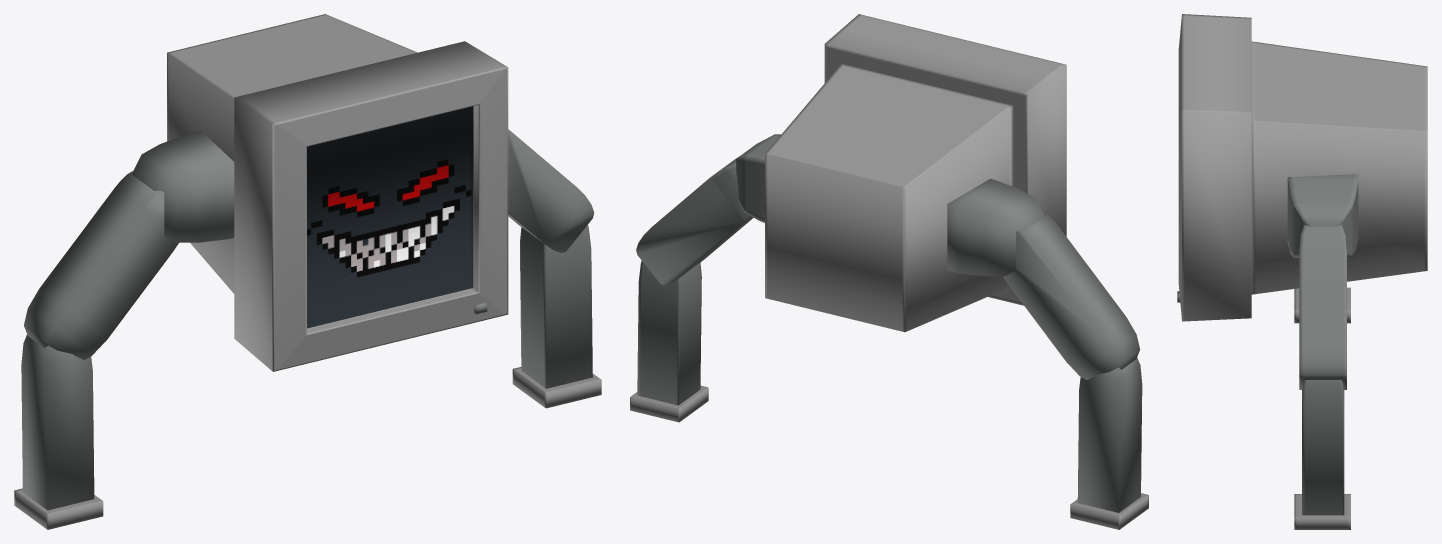
The model's file is enemy.fbx.
3 views of the same model, side by side, from view 1: azimuth 30°, elevation 25°; view 2: azimuth 150°, elevation 25°; view 3: azimuth 270°, elevation 25° (orthographic). The views are drawn at different scales.
Visible parts, largest first — view 1: Body, UpperLeg.R, BottomLeg.R, BottomLeg.L, Shoulder.R, UpperLeg.L, Foot.L, Foot.R; view 2: Body, UpperLeg.R, BottomLeg.R, BottomLeg.L, UpperLeg.L, Shoulder.R, Shoulder.L, Foot.L, Foot.R; view 3: Body, UpperLeg.L, BottomLeg.L, Shoulder.L, Foot.L, Foot.R.
Part boxes in pixels (x1,y1,x2,y2): Body: (167, 14, 508, 371); UpperLeg.R: (24, 171, 178, 360); BottomLeg.R: (21, 334, 94, 510); BottomLeg.L: (520, 225, 592, 388); Shoulder.R: (132, 130, 234, 242); UpperLeg.L: (508, 129, 594, 252); Foot.L: (512, 367, 601, 408); Foot.R: (14, 488, 103, 529); Body: (765, 14, 1066, 332); UpperLeg.R: (1003, 213, 1139, 380); BottomLeg.R: (1077, 357, 1142, 512); BottomLeg.L: (637, 261, 701, 405); UpperLeg.L: (636, 157, 753, 285); Shoulder.R: (947, 179, 1043, 276); Shoulder.L: (736, 134, 780, 222); Foot.L: (630, 385, 708, 422); Foot.R: (1070, 493, 1148, 529); Body: (1178, 14, 1427, 321); UpperLeg.L: (1299, 224, 1346, 389); BottomLeg.L: (1302, 380, 1344, 515); Shoulder.L: (1287, 174, 1358, 257); Foot.L: (1294, 494, 1350, 529); Foot.R: (1294, 287, 1350, 323).
Bounding box in the file's own units: 3.29 × 2.36 × 1.52.
